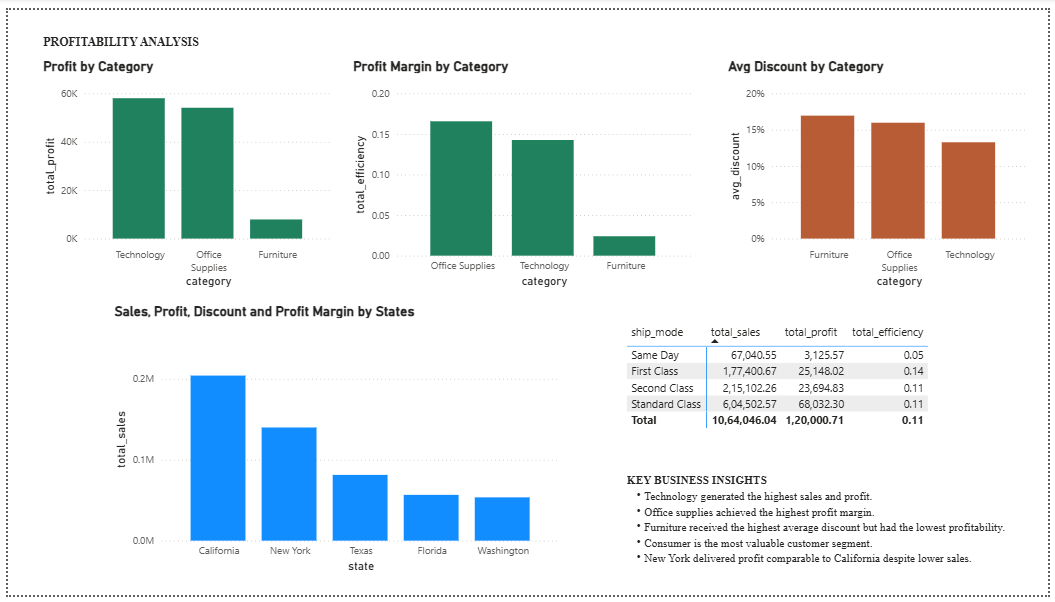

Layout of this report page (visuals, bound fields, positions):
{"tool":"powerbi","page":{"name":"Page 2","canvas":[1280,720],"ordinal":1},"visuals":[{"type":"pivotTable","fields":{"Rows":["cleaned_superstore.ship_mode"],"Values":["cleaned_superstore.total_sales","cleaned_superstore.total_profit","cleaned_superstore.total_efficiency"]},"box":[756.9,380,381.5,169.2],"z":0},{"type":"clusteredColumnChart","title":"Profit Margin by Category","fields":{"Y":["cleaned_superstore.total_efficiency"],"Category":["cleaned_superstore.category"]},"box":[420,58.5,426.2,287.7],"z":2},{"type":"clusteredColumnChart","title":"Profit by Category","fields":{"Category":["cleaned_superstore.category"],"Y":["cleaned_superstore.total_profit"]},"box":[38.5,58.5,366.2,287.7],"z":3},{"type":"clusteredColumnChart","title":"Avg Discount by Category","fields":{"Category":["cleaned_superstore.category"],"Y":["cleaned_superstore.avg_discount"]},"box":[881.5,58.5,376.9,287.7],"z":5},{"type":"clusteredColumnChart","title":"Sales, Profit, Discount and Profit Margin by States","fields":{"Y":["cleaned_superstore.total_sales"],"Category":["cleaned_superstore.state"]},"box":[126.2,360,558.5,336.9],"z":6},{"type":"textbox","box":[756.9,564.6,501.5,132.3],"z":7},{"type":"textbox","box":[38.5,24.6,300,33.8],"z":8}]}

Visuals, with their boxes in screenshot pixels (x1, y1, x2, y2), scaled from the page's 1280x720 canvas onto the 1055x602 screenshot:
pivotTable - cleaned_superstore.ship_mode x cleaned_superstore.total_sales: [624,318,938,459]
"Profit Margin by Category" clusteredColumnChart: [346,49,697,289]
"Profit by Category" clusteredColumnChart: [32,49,334,289]
"Avg Discount by Category" clusteredColumnChart: [727,49,1037,289]
"Sales, Profit, Discount and Profit Margin by States" clusteredColumnChart: [104,301,564,583]
textbox: [624,472,1037,583]
textbox: [32,21,279,49]
